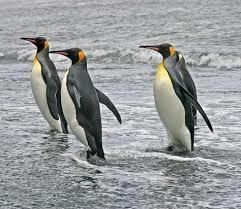king: (42, 43, 128, 176), (128, 37, 215, 160)
